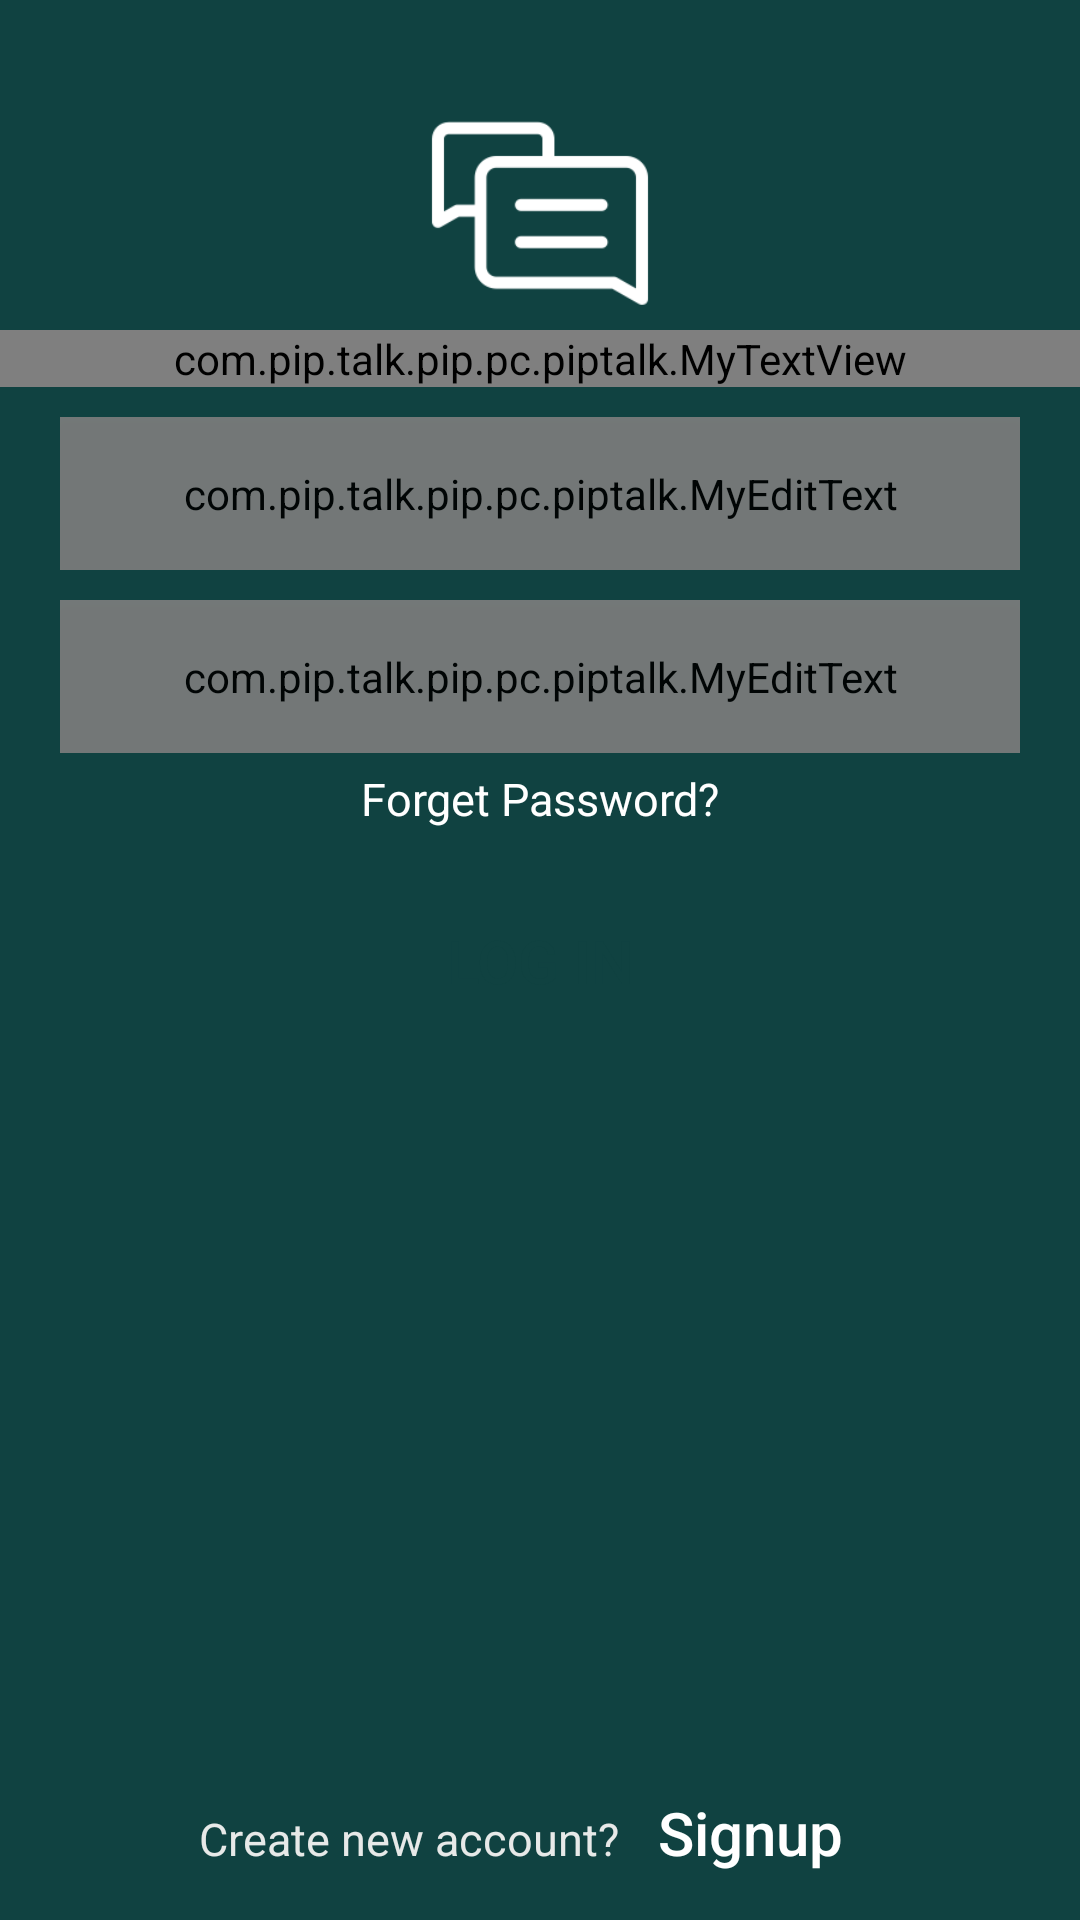

Screen size 1080 x 1920. Icon name, then its box in pixels as [x1,y1,x2,y2]:
chat: [432,121,648,305]
